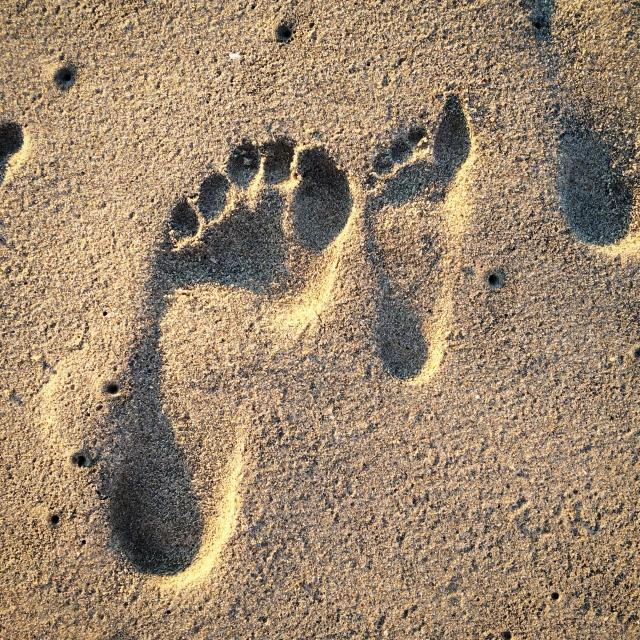human_footprint: (86, 92, 530, 632)
